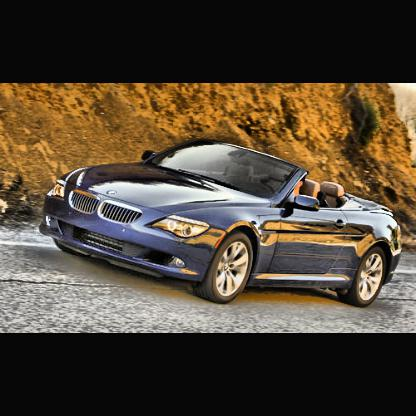BMW M6 Convertible 2010: (40, 139, 406, 309)
